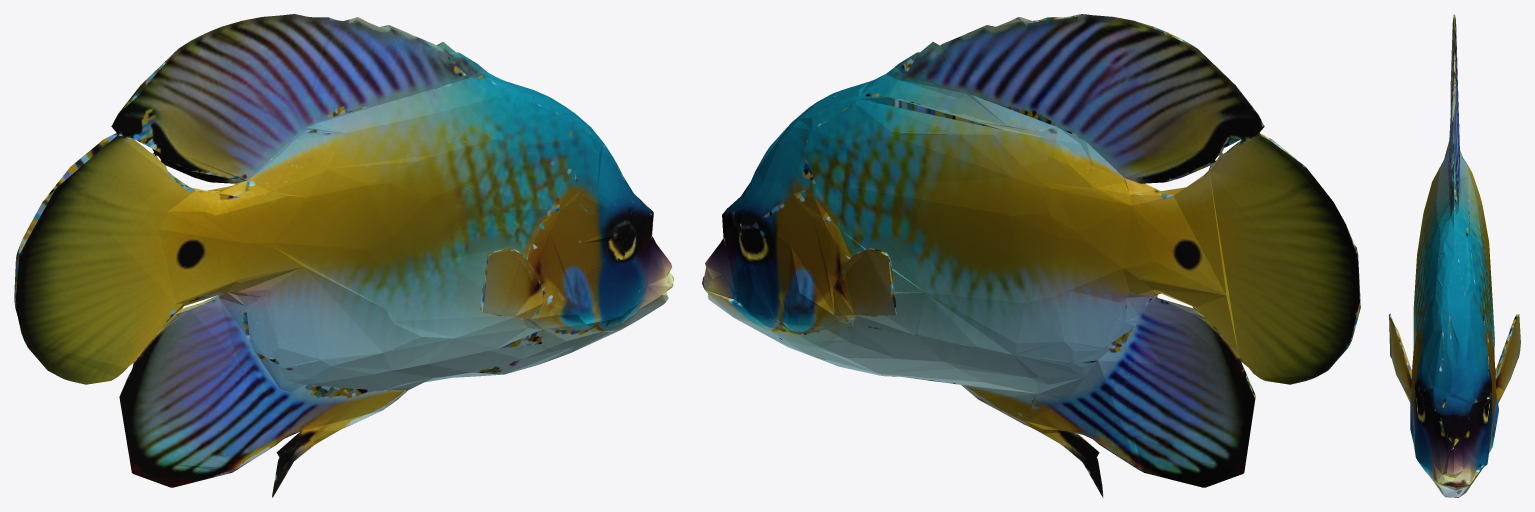
Rendered from fish_0085_smpl23_resized.glb.
3 renders of one model, left to right at view 1: azimuth 30°, elevation 25°; view 2: azimuth 150°, elevation 25°; view 3: azimuth 270°, elevation 25°, orthographic. The views are drawn at different scales.
Parts seen in each view (by area): view 1: world; view 2: world; view 3: world.
Part boxes in pixels (bbox=[...]): world: bbox=[14, 14, 673, 497]; world: bbox=[702, 14, 1360, 497]; world: bbox=[1389, 14, 1520, 497].
Bounding box in the file's own units: 1.9 × 1.34 × 0.413.
1 material, 1 textured.
